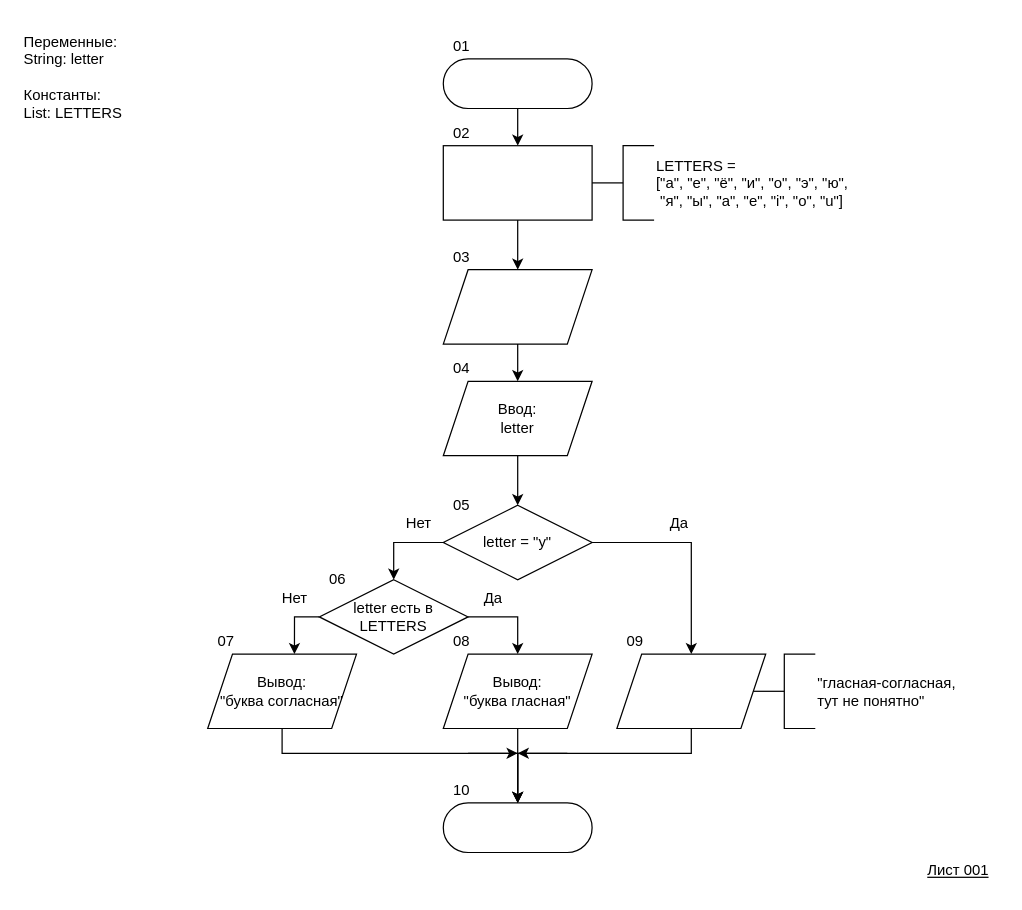
The diagram is 1022 pixels wide and 910 high, and some of its shapes have lost their labels. Each missing label, with the centre of its shape:
Вывод:: point 691,690
Вывод: "Введите букву: ": point 517,306
Конец: point 517,827
Начало: point 517,83
